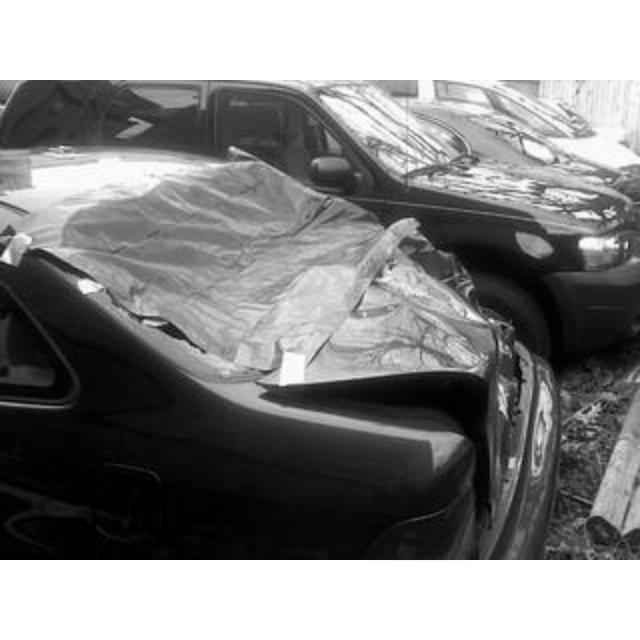Rear-windscreen-Damage: (4, 152, 512, 412)
